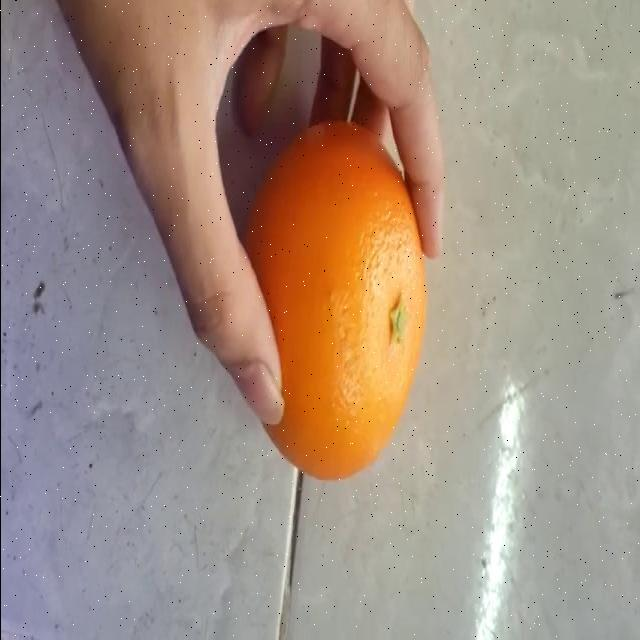Orange: (243, 118, 429, 481)
